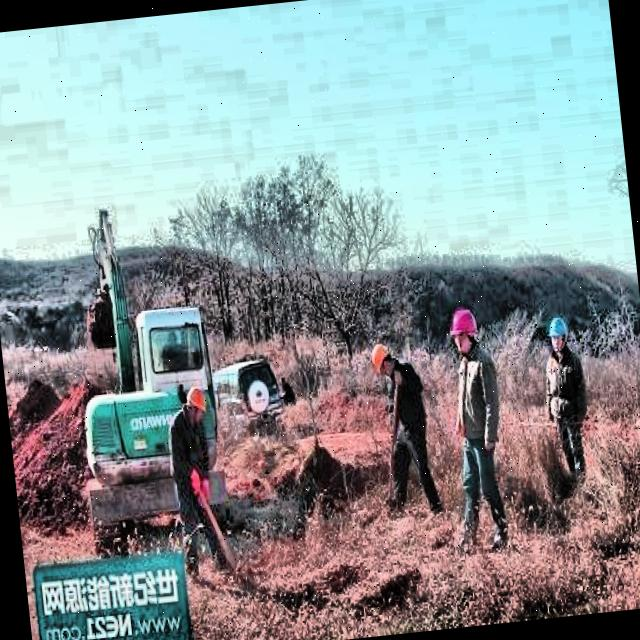helmet: (540, 306, 579, 361), (447, 302, 480, 356), (368, 342, 402, 385), (178, 385, 209, 428)
